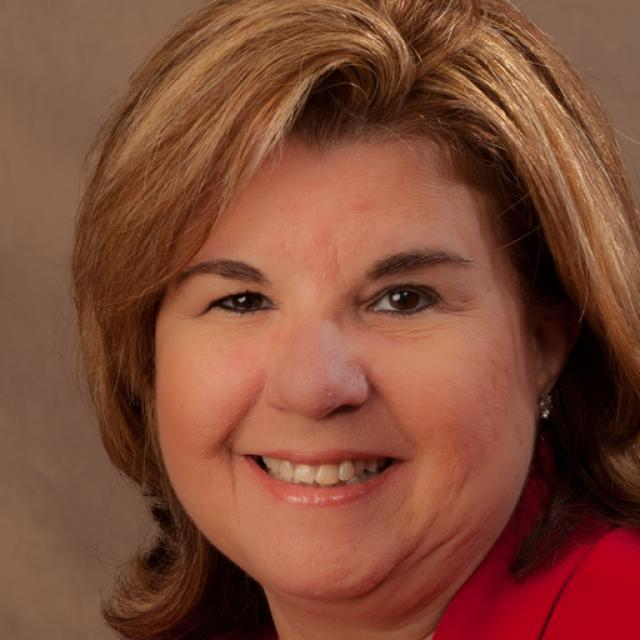happy: (136, 109, 539, 604)
